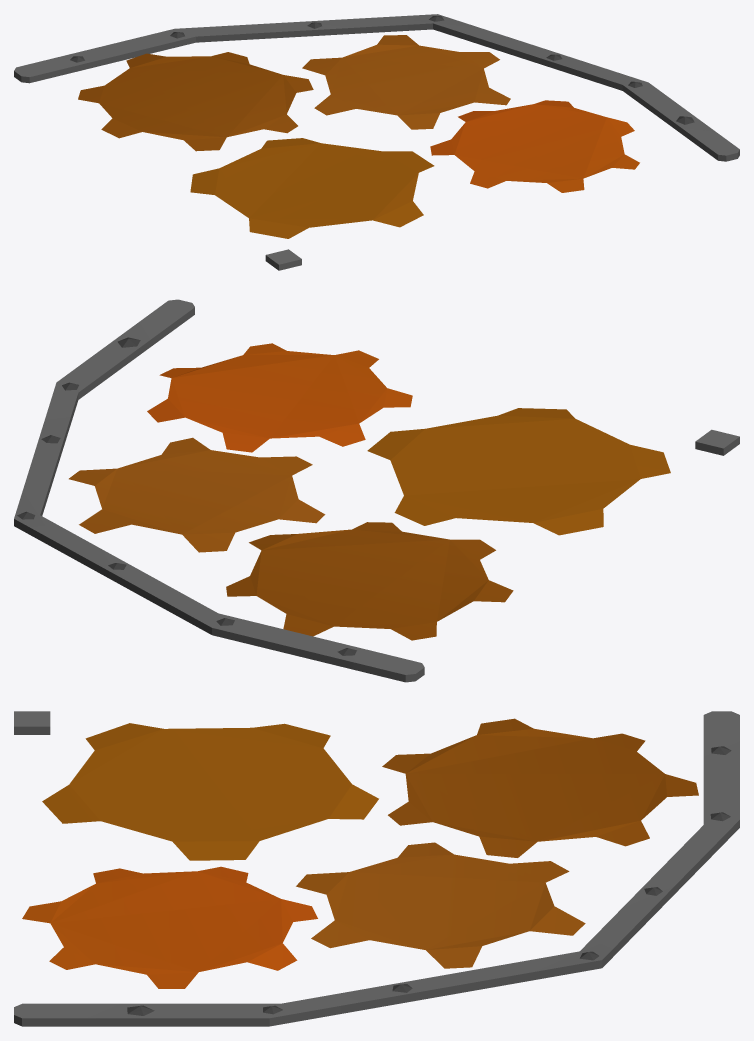
Rendered from Road Angle.glb.
3 views of the same model, one above another, from view 1: azimuth 30°, elevation 25°; view 2: azimuth 150°, elevation 25°; view 3: azimuth 270°, elevation 25° (orthographic). The views are drawn at different scales.
Visible parts, largest first — view 1: RoadAngle; view 2: RoadAngle; view 3: RoadAngle.
Boxes of the visible parts, bbox=[...] form: RoadAngle: bbox=[14, 14, 739, 270]; RoadAngle: bbox=[14, 299, 739, 682]; RoadAngle: bbox=[14, 711, 739, 1026].
Size of what is drawn, in the model's own units: 2 by 0.0397 by 2.
Materials: 1 (1 with a texture image).
